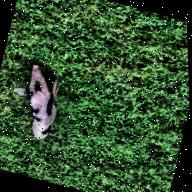boar: (3, 62, 68, 142)
